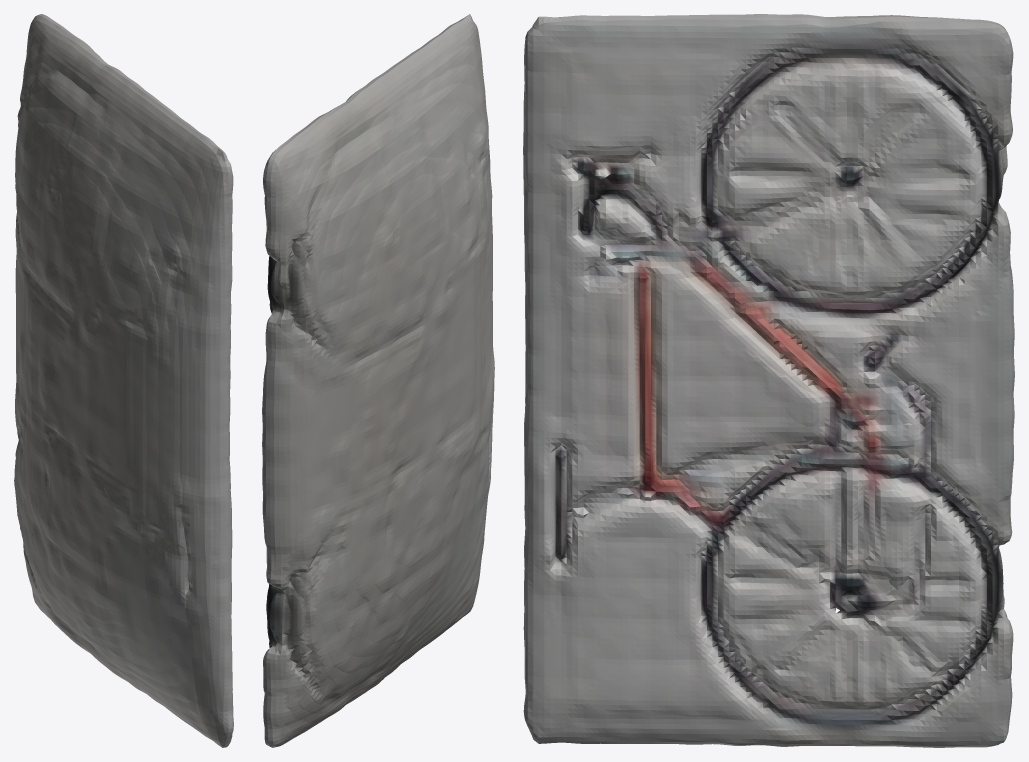
File: 000009_bike_bicycle_ride.glb
3 views of the same model, side by side, from view 1: azimuth 30°, elevation 25°; view 2: azimuth 150°, elevation 25°; view 3: azimuth 270°, elevation 25° (orthographic). The views are drawn at different scales.
Parts seen in each view (by area): view 1: world; view 2: world; view 3: world.
Part boxes in pixels (left/top/right/bottom): world: left=14, top=14, right=233, bottom=747; world: left=262, top=14, right=494, bottom=747; world: left=523, top=14, right=1014, bottom=747.
Size of the model in its own units: 0.1329 by 0.9823 by 0.5989.
